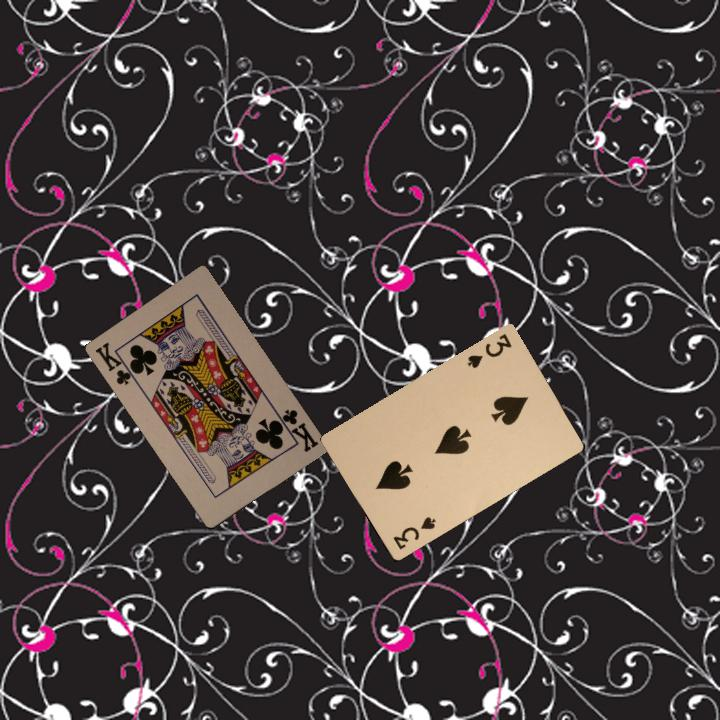3s: (463, 329, 514, 371), (389, 512, 438, 552)
Kc: (91, 338, 139, 388), (273, 405, 321, 455)
